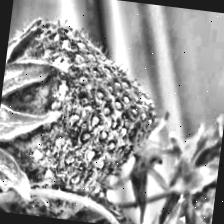Powdery Mildew Fruit: (0, 16, 165, 224), (41, 188, 153, 224)
